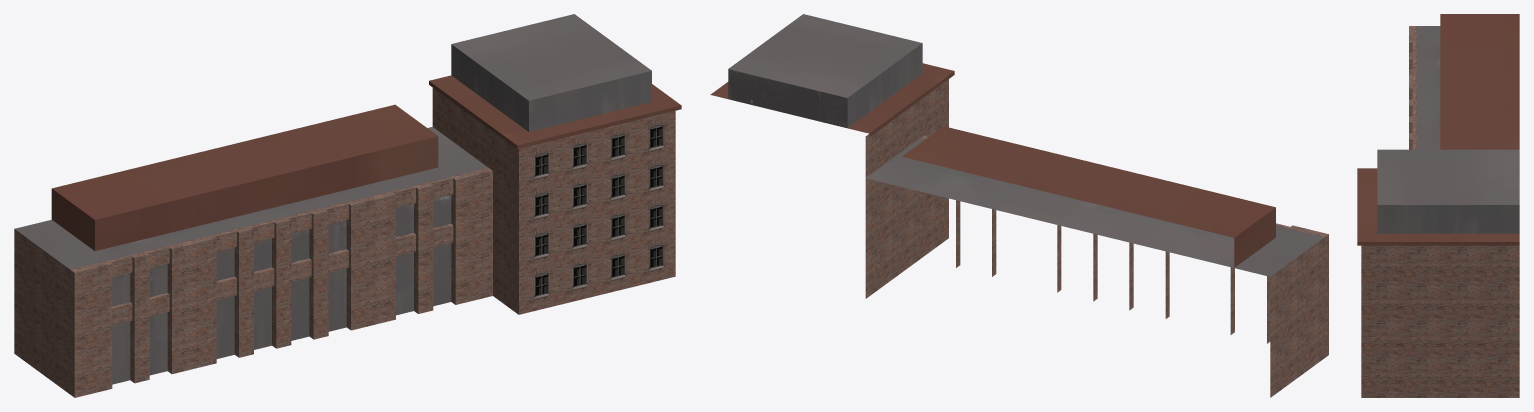
The picture shows the model from 3 angles, left to right: view 1: azimuth 30°, elevation 25°; view 2: azimuth 150°, elevation 25°; view 3: azimuth 270°, elevation 25°; orthographic projection. The views are drawn at different scales.
Visible parts, largest first — view 1: body0_model0_lod0_mesh0, body0_model0_lod0_mesh2, body0_model0_lod0_mesh3, body0_model0_lod0_mesh1; view 2: body0_model0_lod0_mesh2, body0_model0_lod0_mesh0, body0_model0_lod0_mesh3; view 3: body0_model0_lod0_mesh0, body0_model0_lod0_mesh2, body0_model0_lod0_mesh3.
Boxes of the visible parts, x1,y1,x2,y2 form: body0_model0_lod0_mesh0: [14, 88, 518, 397]; body0_model0_lod0_mesh2: [15, 14, 651, 384]; body0_model0_lod0_mesh3: [51, 75, 681, 250]; body0_model0_lod0_mesh1: [519, 111, 675, 314]; body0_model0_lod0_mesh2: [728, 14, 1324, 276]; body0_model0_lod0_mesh0: [865, 79, 1328, 397]; body0_model0_lod0_mesh3: [710, 63, 1275, 267]; body0_model0_lod0_mesh0: [1361, 26, 1519, 397]; body0_model0_lod0_mesh2: [1377, 26, 1519, 233]; body0_model0_lod0_mesh3: [1357, 14, 1519, 245].
Bounding box in the file's own units: 155 × 52.01 × 41.
4 materials, 4 textured.
